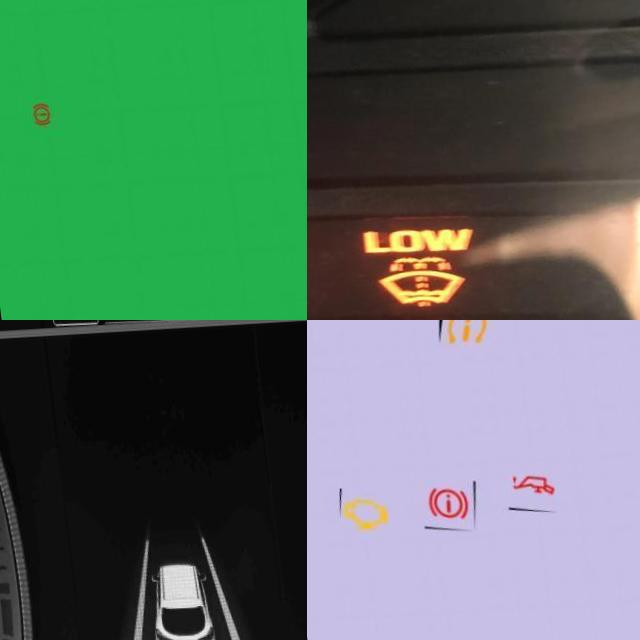Washer Fluid: (363, 258, 456, 316)
